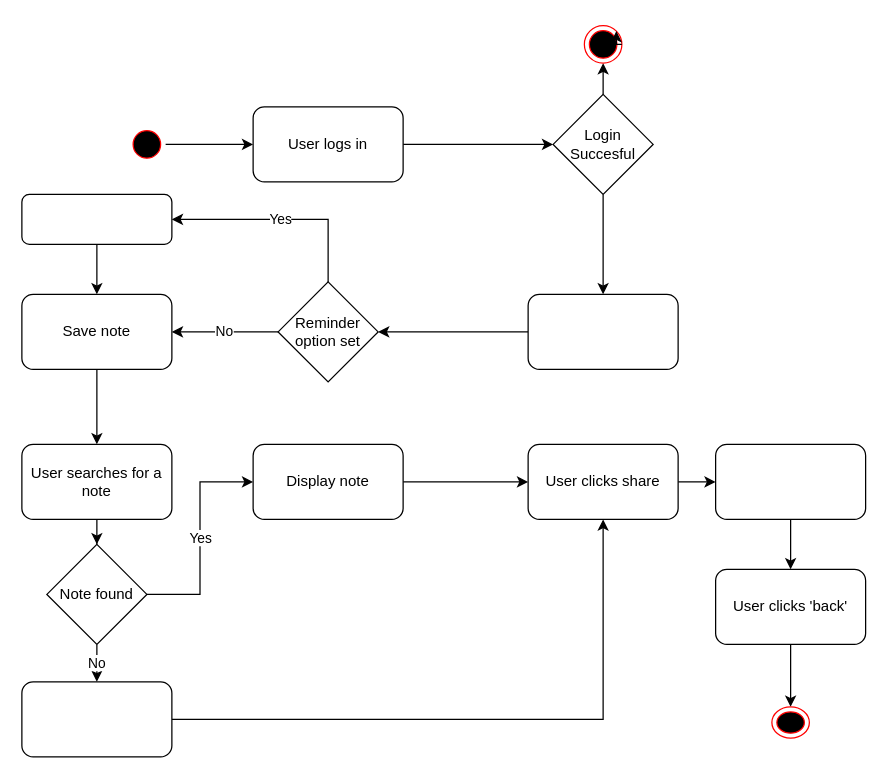
Some shapes in this 888 by 779 pixel diagram are drawn without their labels. The box of each missing label's shape, as (x1, y1, x2, y2) in pixels:
Display Toast: (21, 681, 172, 757)
Set reminder: (21, 193, 172, 244)
Share note: (714, 443, 866, 519)
User creates a note or checkbox: (527, 293, 678, 369)
